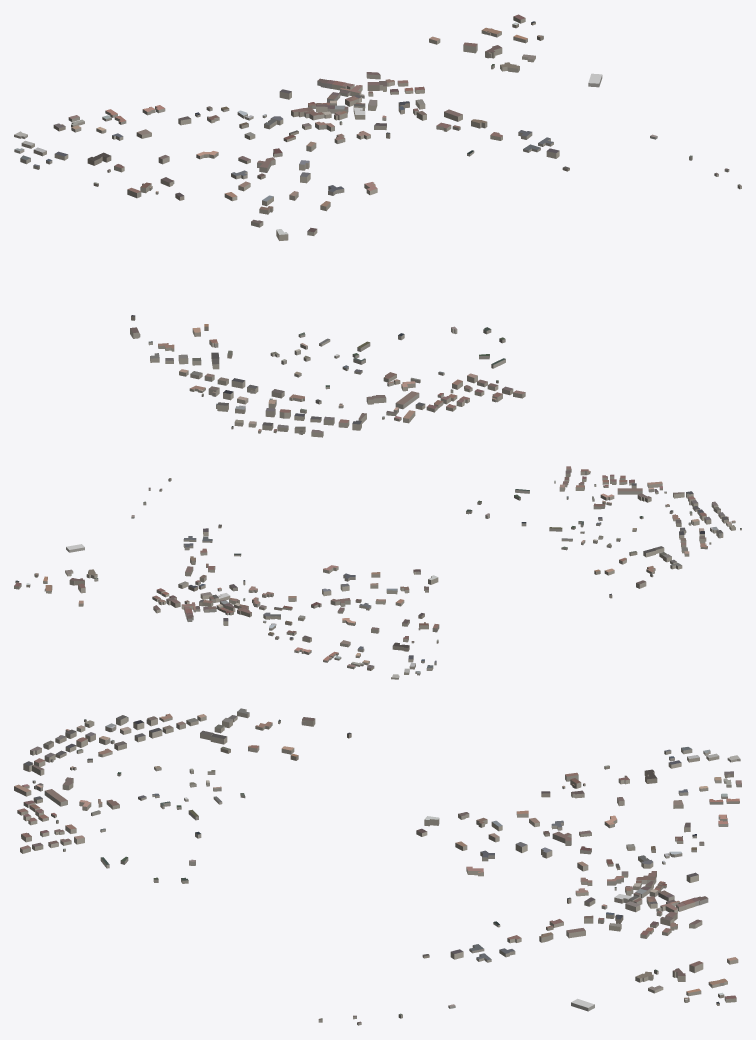
The picture shows the model from 3 angles, top to bottom: view 1: azimuth 30°, elevation 25°; view 2: azimuth 150°, elevation 25°; view 3: azimuth 270°, elevation 25°; orthographic projection. The views are drawn at different scales.
Visible parts, largest first — view 1: tuile; view 2: tuile; view 3: tuile.
Boxes of the visible parts, x1=… form: tuile: x1=14, y1=14, x2=741, y2=437; tuile: x1=14, y1=466, x2=741, y2=679; tuile: x1=14, y1=708, x2=741, y2=1025.
Bounding box in the file's own units: 1001 × 59.22 × 1011.
